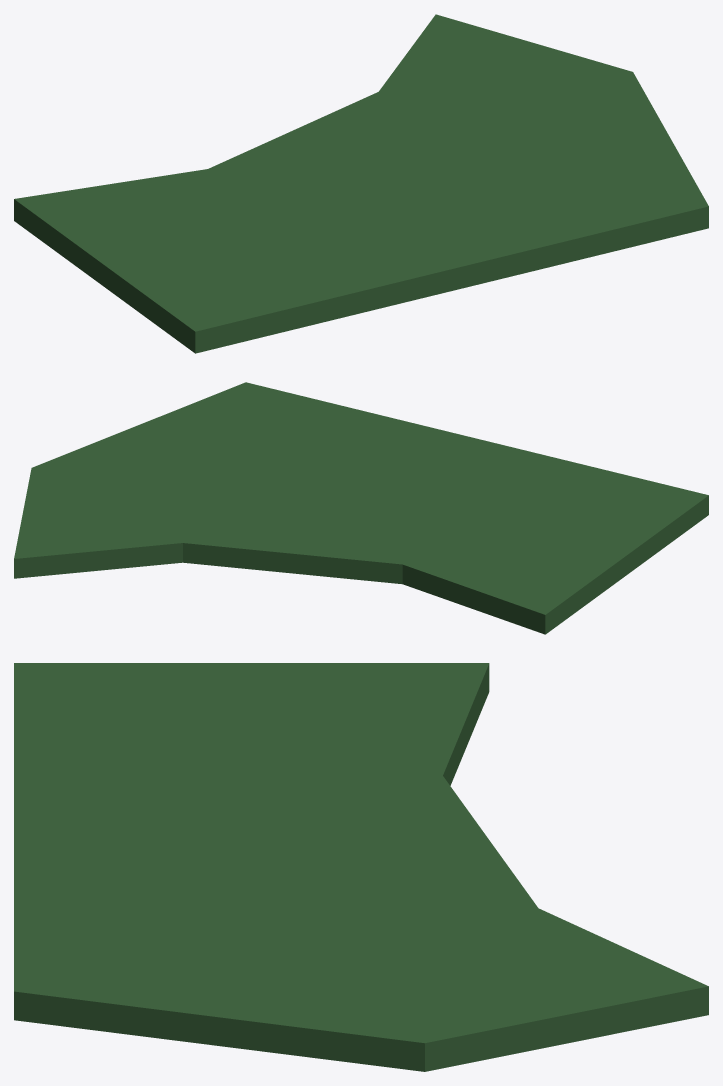
File: x_proval_00_7_1_rmstrd.fbx
3 renders of one model, top to bottom at view 1: azimuth 30°, elevation 25°; view 2: azimuth 150°, elevation 25°; view 3: azimuth 270°, elevation 25°, orthographic. The views are drawn at different scales.
Visible parts, largest first — view 1: x_proval_00_7_1_rmstrd1; view 2: x_proval_00_7_1_rmstrd1; view 3: x_proval_00_7_1_rmstrd1.
Boxes of the visible parts, x1,y1,x2,y2 form: x_proval_00_7_1_rmstrd1: [14, 14, 708, 353]; x_proval_00_7_1_rmstrd1: [14, 382, 708, 634]; x_proval_00_7_1_rmstrd1: [14, 663, 708, 1071].
Size of the model in its own units: 5.68 by 0.2 by 4.39.
